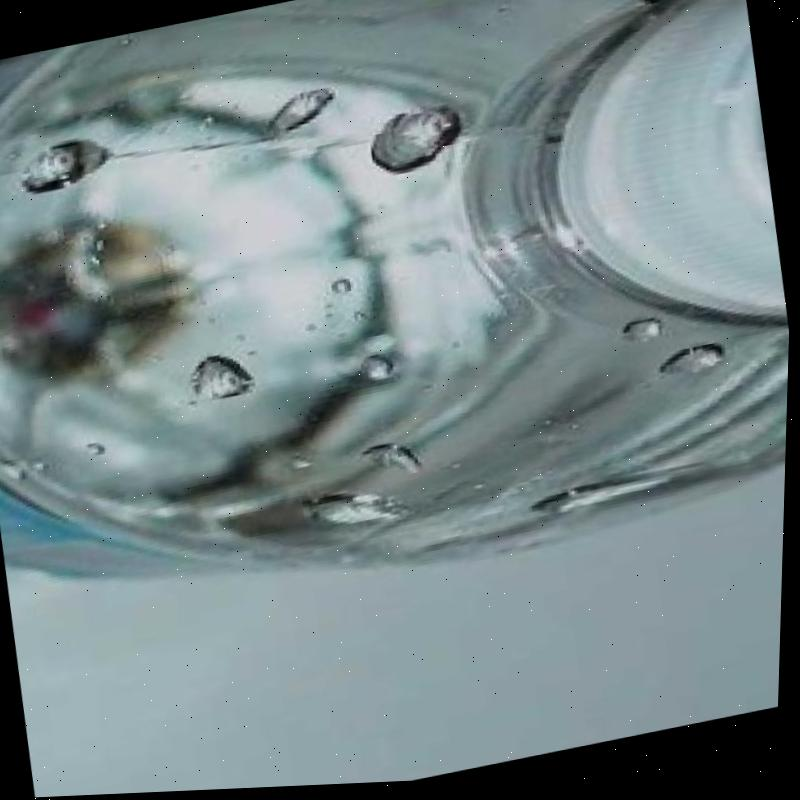botella: (0, 0, 800, 654)
